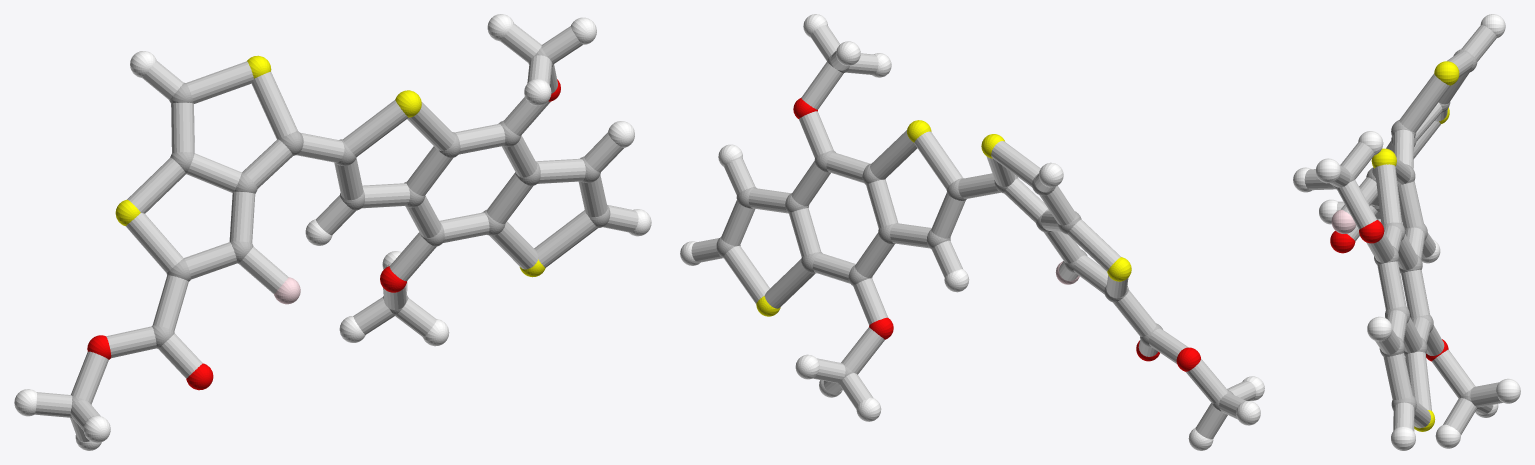
Rendered from color.glb.
The picture shows the model from 3 angles, left to right: view 1: azimuth 30°, elevation 25°; view 2: azimuth 150°, elevation 25°; view 3: azimuth 270°, elevation 25°; orthographic projection. The views are drawn at different scales.
Visible parts, largest first — view 1: grp15205, grp8689, grp1, grp7241, grp13395; view 2: grp15205, grp8689, grp1, grp7241, grp13395; view 3: grp15205, grp8689, grp1, grp7241, grp13395, grp14843.
Boxes of the visible parts, x1,y1,x2,y2 form: grp15205: [35, 23, 638, 441]; grp8689: [14, 14, 651, 450]; grp1: [70, 47, 610, 419]; grp7241: [115, 55, 545, 277]; grp13395: [87, 79, 560, 390]; grp15205: [691, 25, 1256, 439]; grp8689: [680, 14, 1264, 450]; grp1: [716, 54, 1233, 411]; grp7241: [756, 120, 1131, 316]; grp13395: [793, 98, 1200, 371]; grp15205: [1304, 25, 1502, 434]; grp8689: [1293, 14, 1520, 450]; grp1: [1332, 49, 1479, 410]; grp7241: [1371, 61, 1459, 431]; grp13395: [1330, 220, 1448, 361]; grp14843: [1331, 209, 1356, 233].
Bounding box in the file's own units: 16.06 × 8.56 × 5.42.
